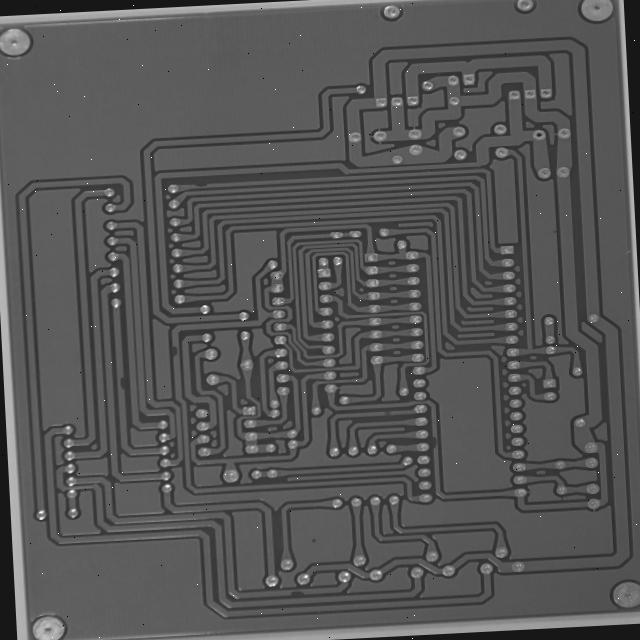mouse_bite: (307, 583, 336, 594), (121, 359, 136, 380), (181, 325, 195, 345), (206, 154, 226, 165), (464, 421, 475, 441)
